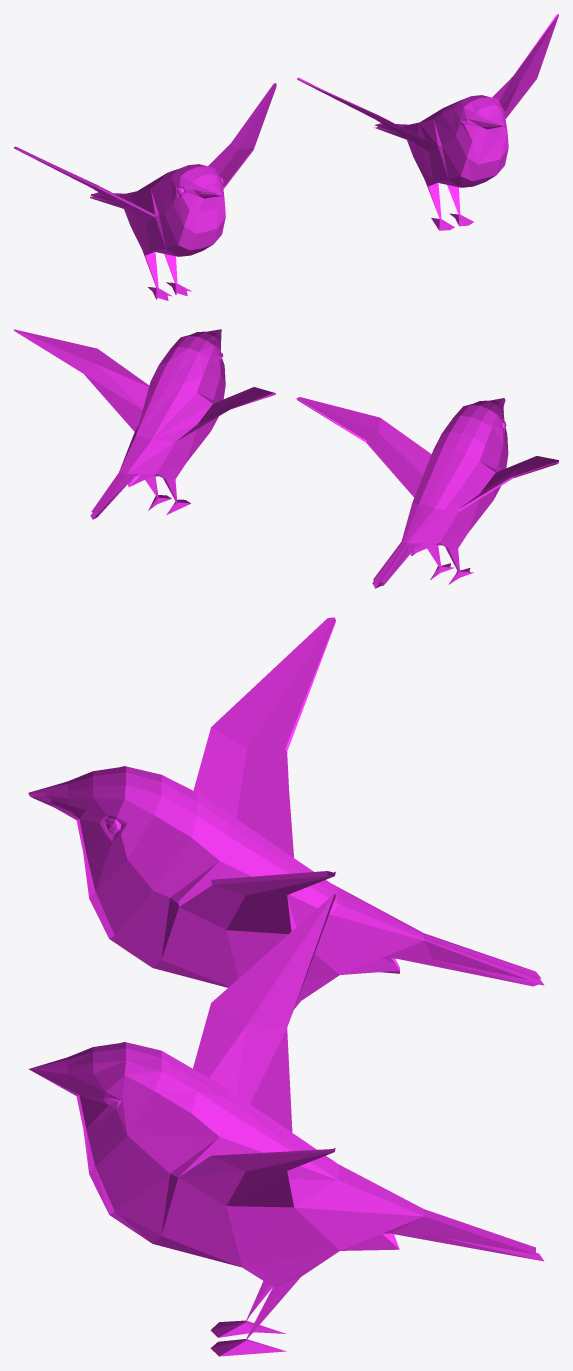
Rendered from lowpoly_bird.obj.
The picture shows the model from 3 angles, top to bottom: view 1: azimuth 30°, elevation 25°; view 2: azimuth 150°, elevation 25°; view 3: azimuth 270°, elevation 25°; orthographic projection. The views are drawn at different scales.
Parts seen in each view (by area): view 1: bird, bird_tri; view 2: bird, bird_tri; view 3: bird_tri, bird.
Boxes of the visible parts, x1,y1,x2,y2 form: bird: (14, 83, 276, 300); bird_tri: (297, 14, 558, 230); bird: (296, 397, 558, 588); bird_tri: (14, 329, 275, 519); bird_tri: (28, 893, 543, 1356); bird: (28, 617, 544, 1009).
Size of the model in its own units: 34.71 by 9.82 by 14.25.
